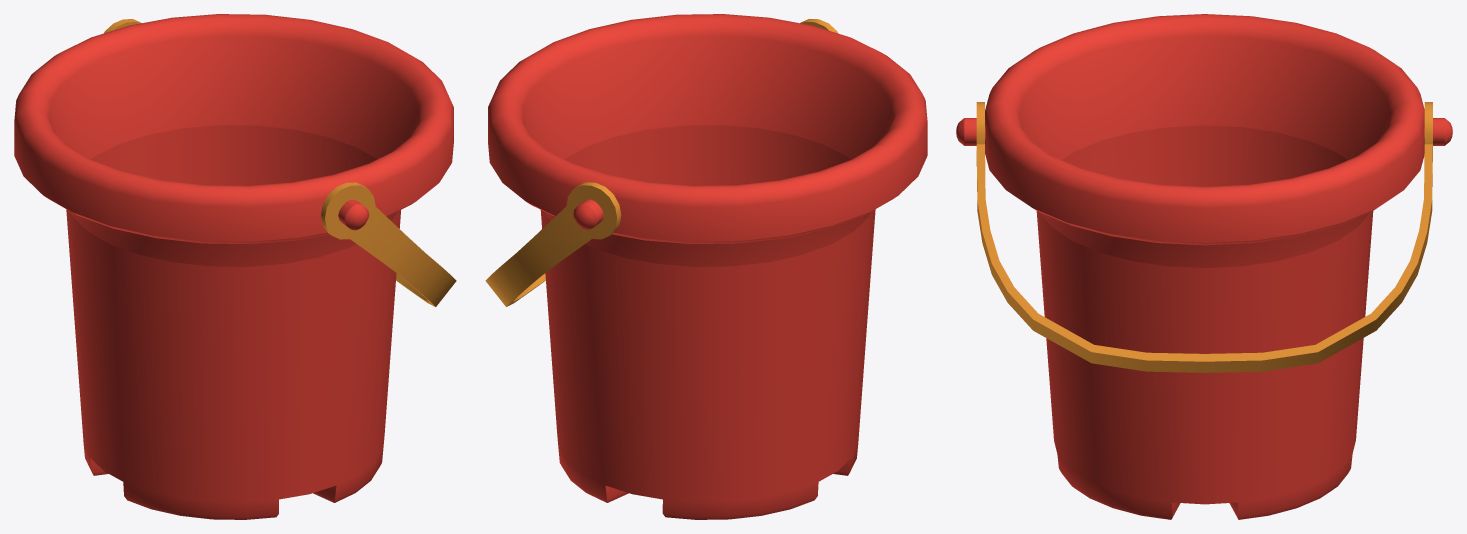
File: Bucket.fbx
The picture shows the model from 3 angles, left to right: view 1: azimuth 30°, elevation 25°; view 2: azimuth 150°, elevation 25°; view 3: azimuth 270°, elevation 25°; orthographic projection.
Parts seen in each view (by area): view 1: Cylinder.007, Cylinder.009; view 2: Cylinder.007, Cylinder.009; view 3: Cylinder.007, Cylinder.009.
Part boxes in pixels (x1,y1,x2,y2): Cylinder.007: (14, 14, 453, 519); Cylinder.009: (104, 19, 456, 306); Cylinder.007: (488, 14, 927, 519); Cylinder.009: (485, 19, 838, 306); Cylinder.007: (956, 14, 1452, 519); Cylinder.009: (976, 102, 1432, 372).
Bounding box in the file's own units: 264 × 237 × 296.
